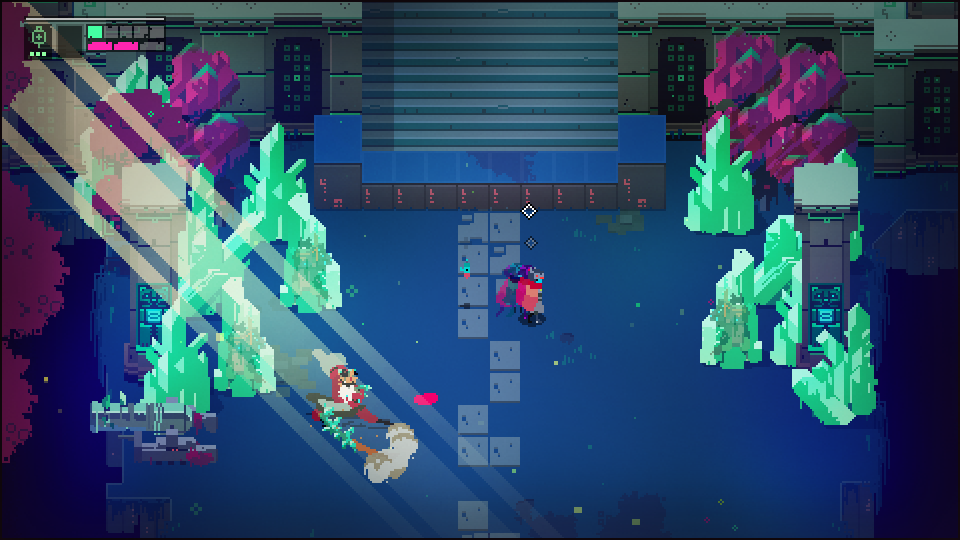hanged_man: (301, 346, 397, 457)
player: (519, 268, 545, 324)
